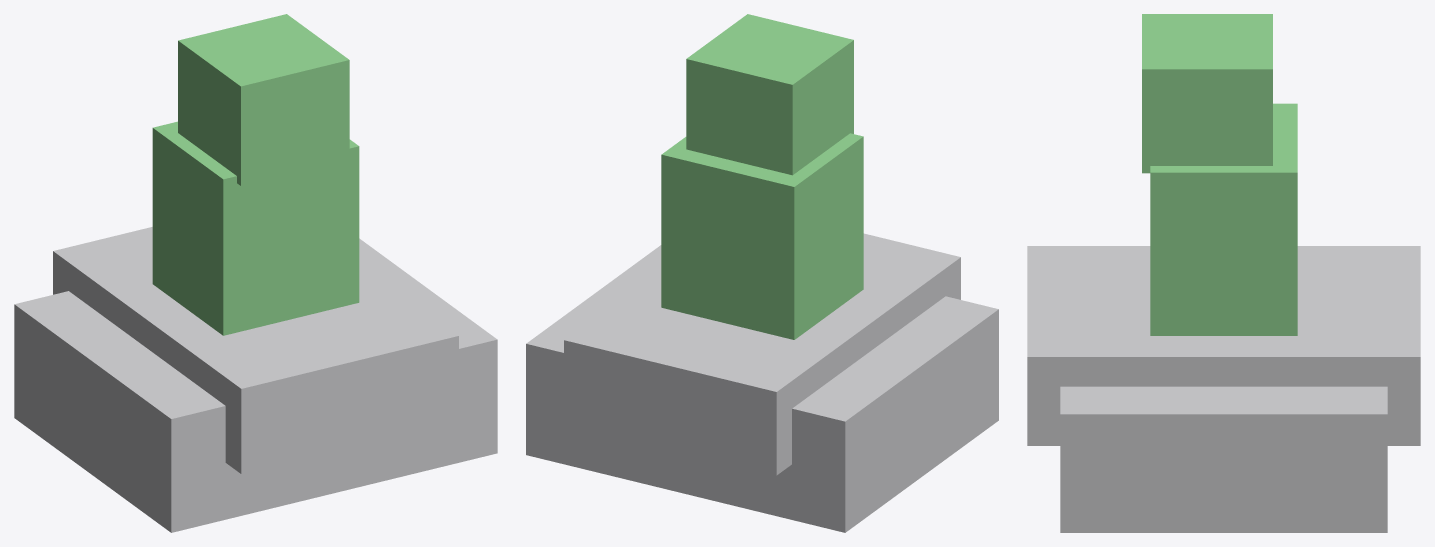
The model's file is lakitu.glb.
3 renders of one model, left to right at view 1: azimuth 30°, elevation 25°; view 2: azimuth 150°, elevation 25°; view 3: azimuth 270°, elevation 25°, orthographic. The views are drawn at different scales.
Parts seen in each view (by area): view 1: lakitu; view 2: lakitu; view 3: lakitu.
Boxes of the visible parts, <box> form: lakitu: <box>14,14,497,532</box>; lakitu: <box>526,14,998,532</box>; lakitu: <box>1027,14,1420,532</box>.
Size of the model in its own units: 1.2 by 1.38 by 1.2.
